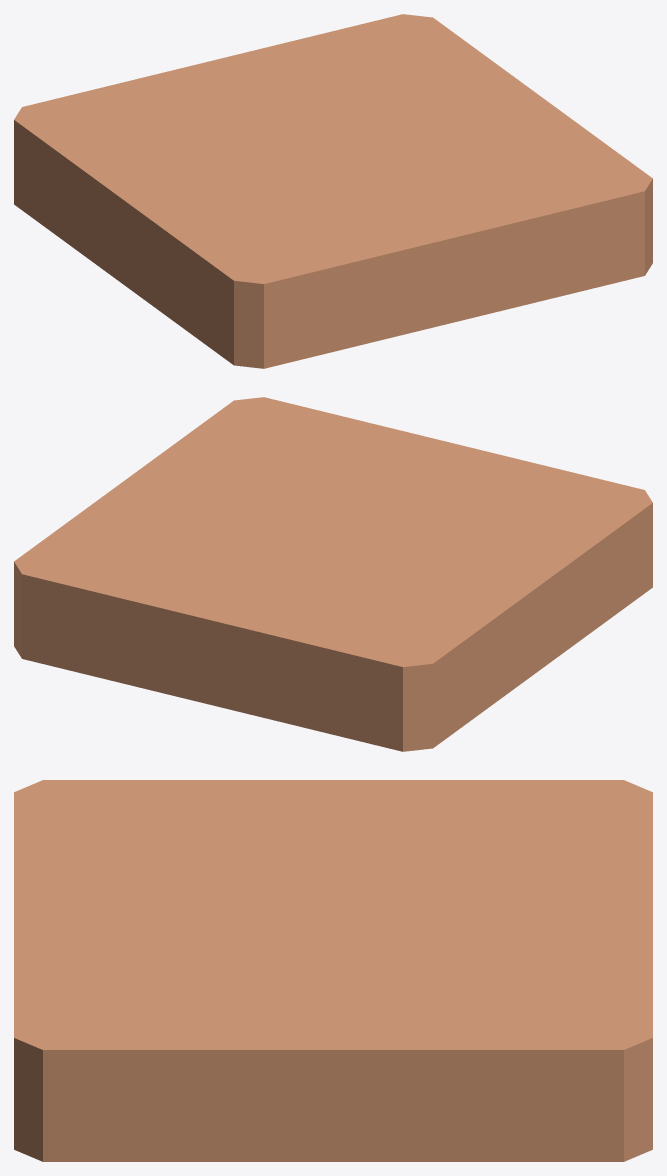
File: roof-flat-top.obj
3 views of the same model, one above another, from view 1: azimuth 30°, elevation 25°; view 2: azimuth 150°, elevation 25°; view 3: azimuth 270°, elevation 25° (orthographic). The views are drawn at different scales.
Size of the model in its own units: 1.1 by 0.2125 by 1.1.
